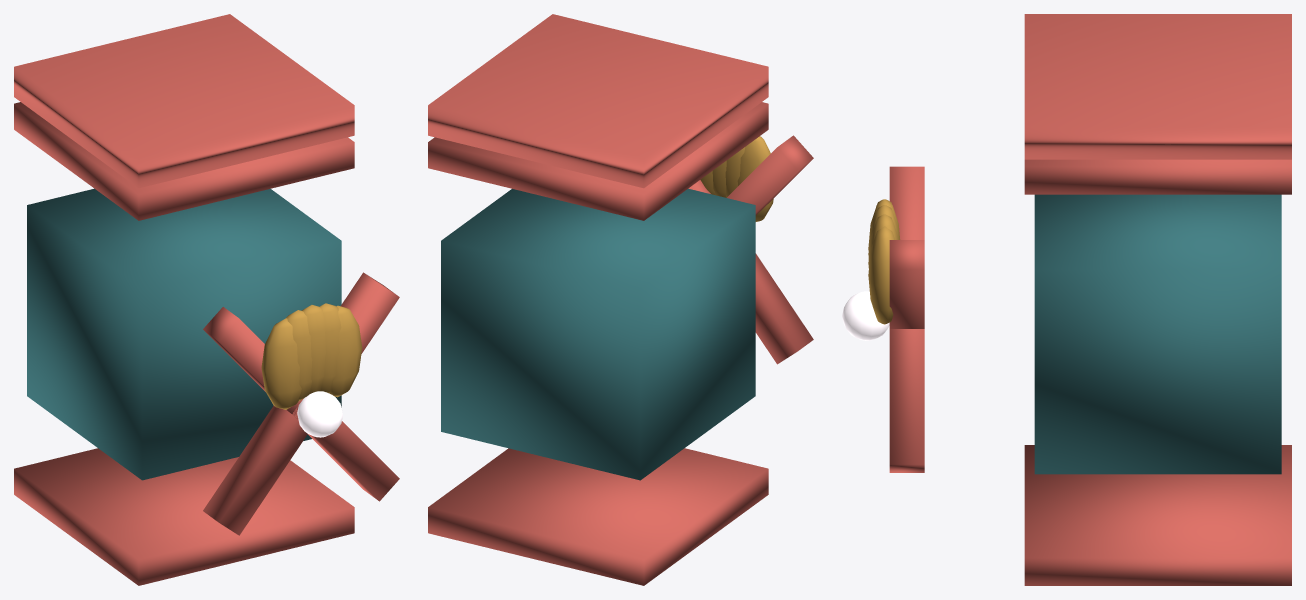
The model's file is opera_detective_box_5.glb.
3 renders of one model, left to right at view 1: azimuth 30°, elevation 25°; view 2: azimuth 150°, elevation 25°; view 3: azimuth 270°, elevation 25°, orthographic. The views are drawn at different scales.
Parts seen in each view (by area): view 1: VisualMesh.005, LidTop.005; view 2: VisualMesh.005, LidTop.005; view 3: VisualMesh.005, LidTop.005.
Part boxes in pixels (x1,y1,x2,y2): VisualMesh.005: (14,102,399,585); LidTop.005: (14,14,354,188); VisualMesh.005: (428,102,813,585); LidTop.005: (428,14,768,188); VisualMesh.005: (842,159,1291,585); LidTop.005: (1024,14,1291,159).
Size of the model in its own units: 1.3 by 2.46 by 2.19.
